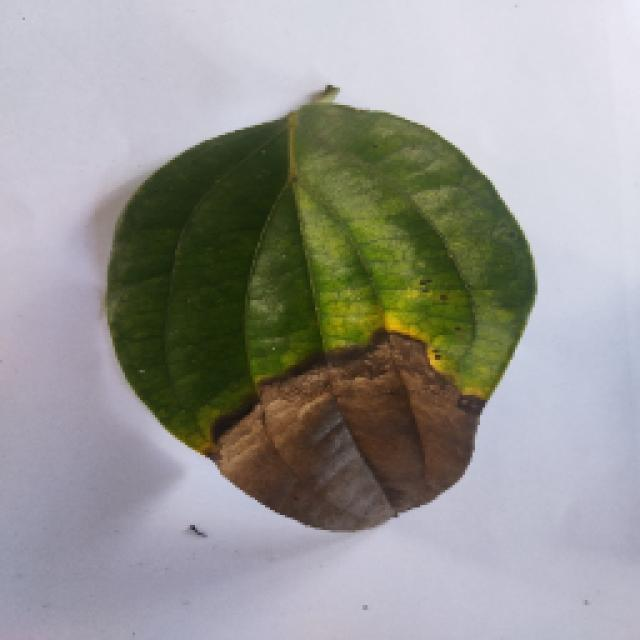footrot: (100, 90, 538, 532)
